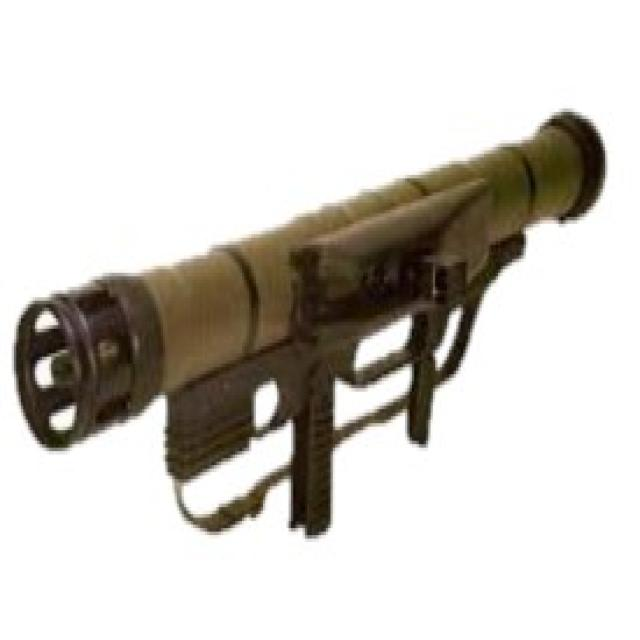bazooka: (10, 107, 614, 578)
